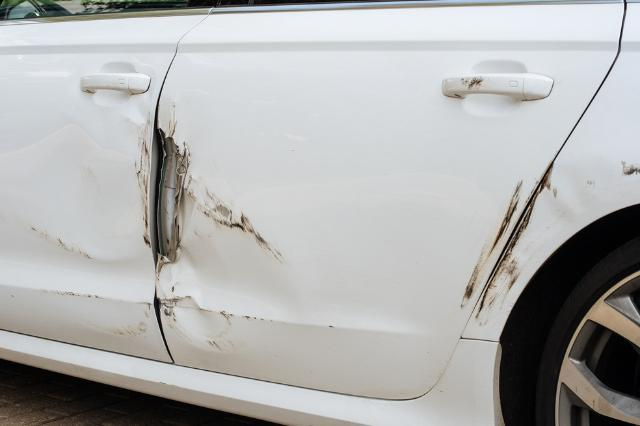Door: (152, 92, 569, 382), (121, 111, 155, 281)
Fender: (462, 142, 640, 340)
